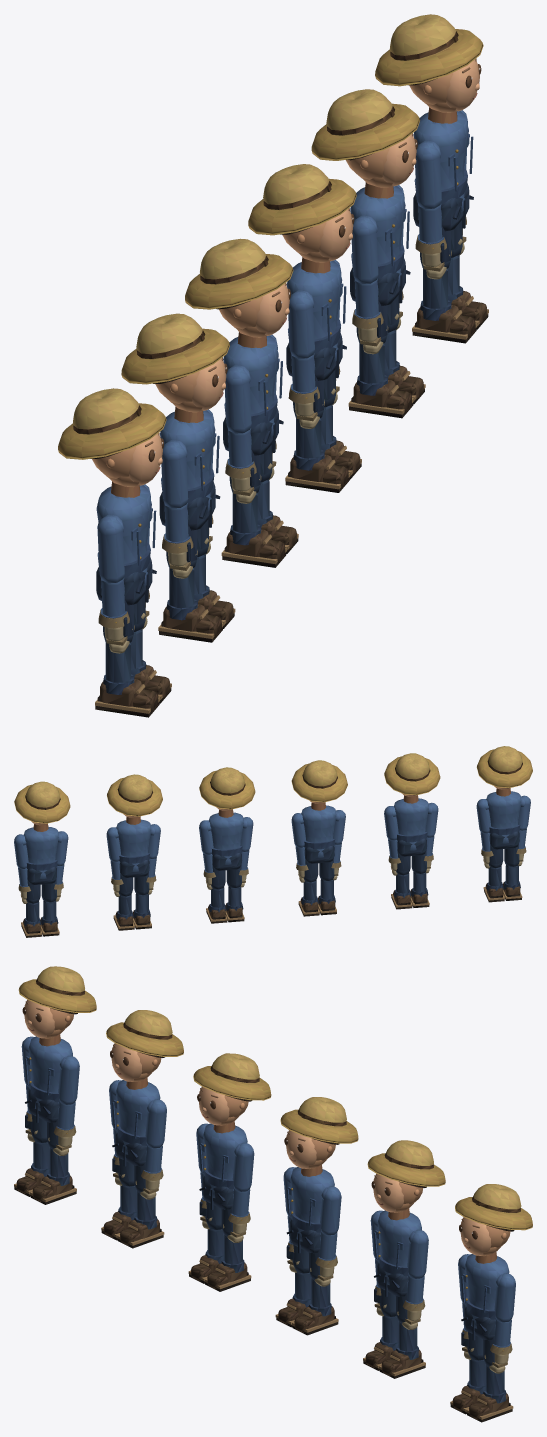
File: audit-hf-player-farmhand-idle-front.glb
3 renders of one model, top to bottom at view 1: azimuth 30°, elevation 25°; view 2: azimuth 150°, elevation 25°; view 3: azimuth 270°, elevation 25°, orthographic. The views are drawn at different scales.
Visible parts, largest first — view 1: strawHat (×6), denimJacketTorso (×6), rightShin (×6), head (×6), rightUpperArm (×6), leftShin (×6), trouserHips (×6), rightLowerArm (×6), rightHandMesh (×6); view 2: strawHat (×6), denimJacketTorso (×6), leftShin (×6), rightShin (×6), trouserHips (×6), leftUpperArm (×6), rightUpperArm (×6), rightThigh (×6), leftThigh (×6); view 3: strawHat (×6), denimJacketTorso (×6), leftShin (×6), head (×6), rightShin (×6), leftUpperArm (×6), trouserHips (×6).
Part boxes in pixels (x1,y1,x2,y2): strawHat (×6): (58,14,483,459); denimJacketTorso (×6): (96,107,473,594); rightShin (×6): (95,268,477,717); head (×6): (90,58,481,486); rightUpperArm (×6): (97,140,441,583); leftShin (×6): (130,255,488,703); trouserHips (×6): (96,183,473,605); rightLowerArm (×6): (100,204,443,623); rightHandMesh (×6): (98,235,451,653); strawHat (×6): (14,746,532,823); denimJacketTorso (×6): (24,788,521,879); leftShin (×6): (21,866,504,937); rightShin (×6): (40,865,522,936); trouserHips (×6): (27,831,519,884); leftUpperArm (×6): (14,799,491,868); rightUpperArm (×6): (55,795,530,865); rightThigh (×6): (41,844,519,902); leftThigh (×6): (26,845,503,903); strawHat (×6): (18,966,532,1230); denimJacketTorso (×6): (25,1034,509,1331); leftShin (×6): (30,1147,513,1422); head (×6): (22,1000,514,1255); rightShin (×6): (14,1141,485,1414); leftUpperArm (×6): (58,1055,515,1322); trouserHips (×6): (25,1089,495,1340).
Size of what is drawn, in the model's own units: 5.97 by 2.41 by 5.19.
